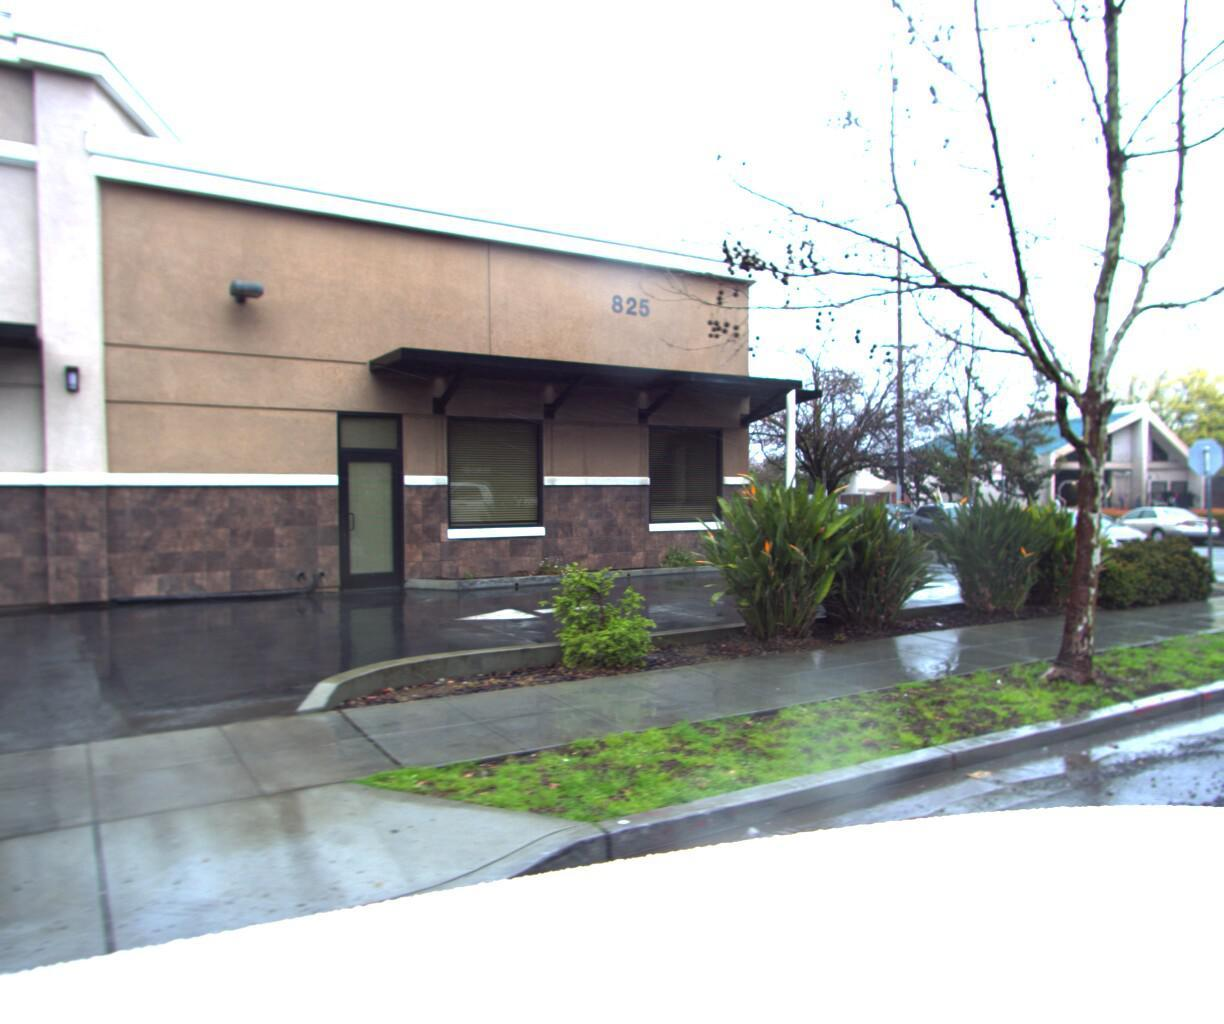car: (995, 499, 1167, 562), (902, 495, 1023, 549), (1091, 497, 1224, 542), (829, 501, 913, 543), (859, 498, 921, 523)
